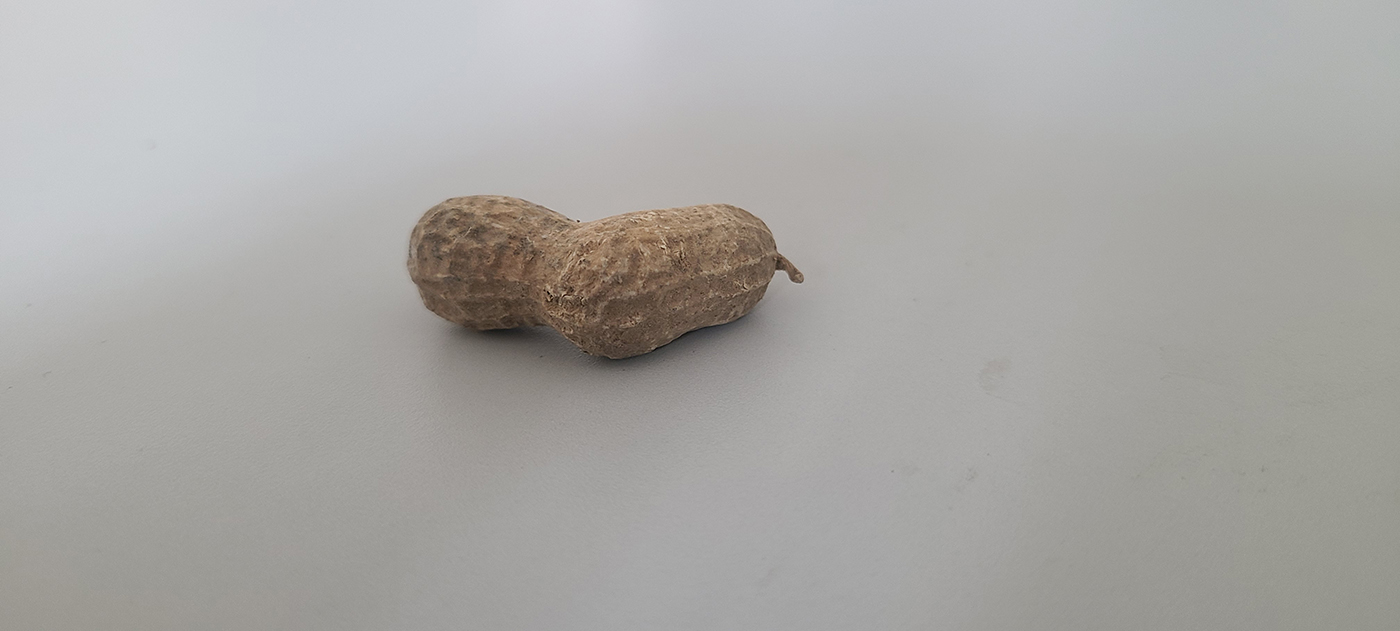h: (402, 190, 780, 362)
